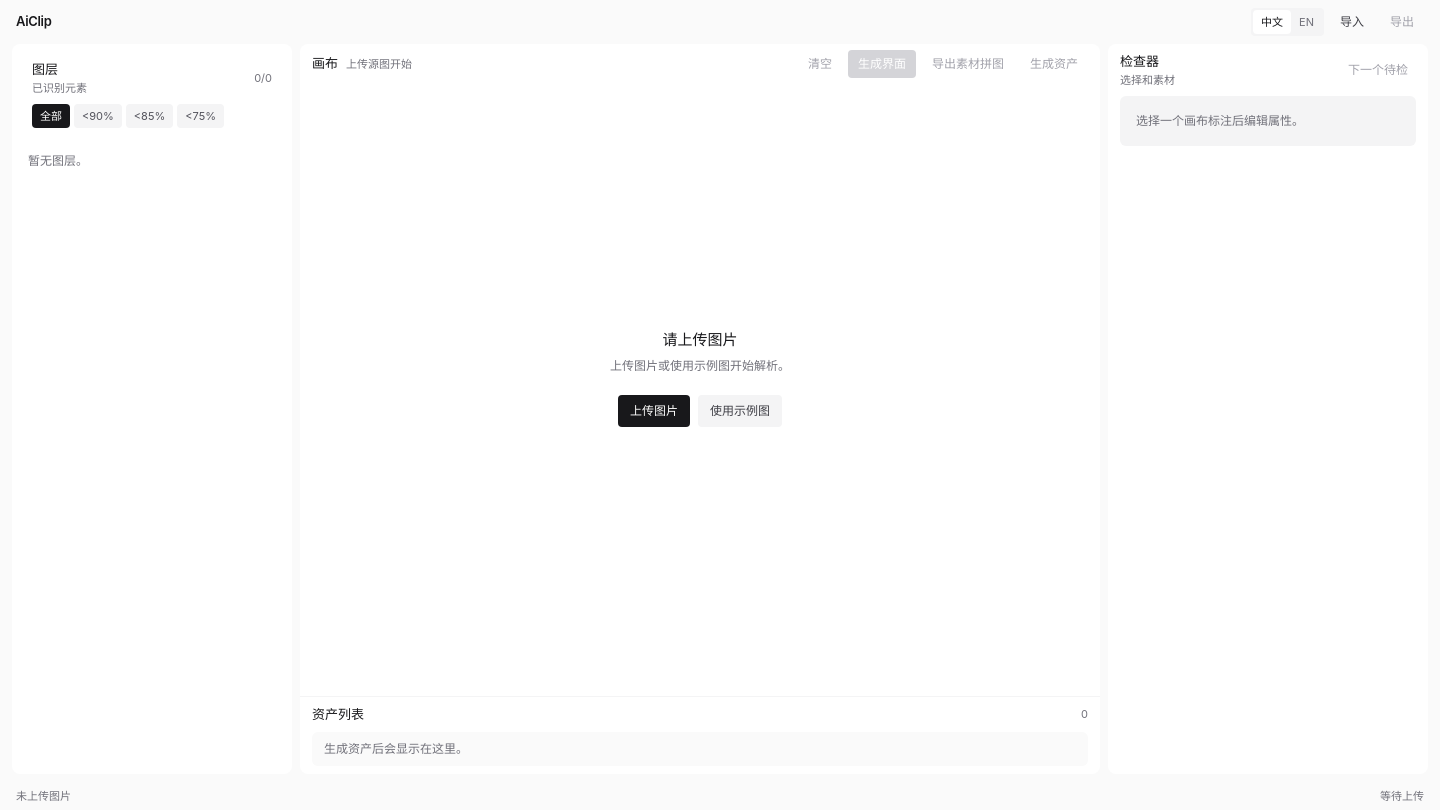
Test case: Workspace › adds a manual annotation even when dragging over an existing box
Click the button "使用示例图" at (740, 411), box [698,395,782,427]
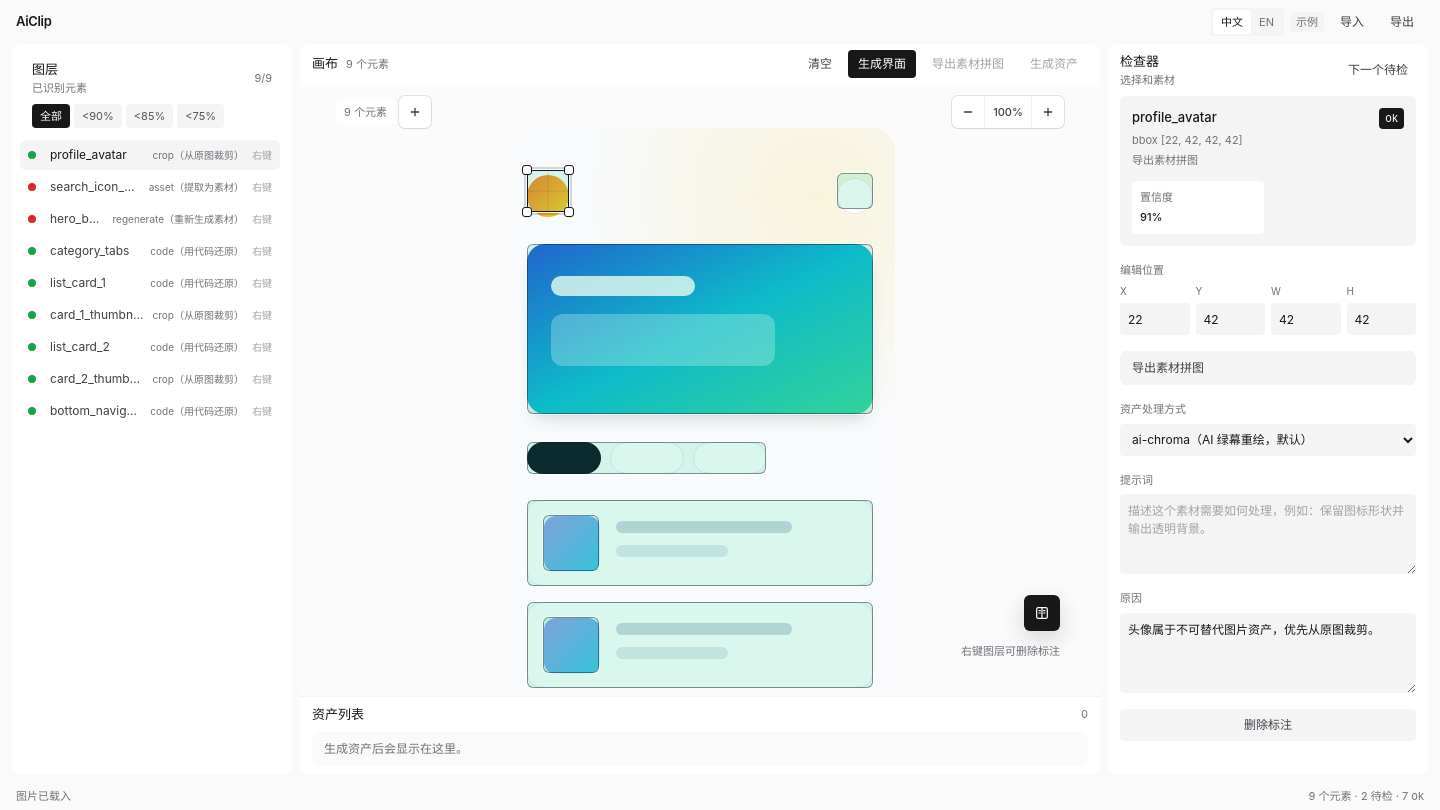
Click the button named "新增标注" at (415, 112), box [399,96,431,128]
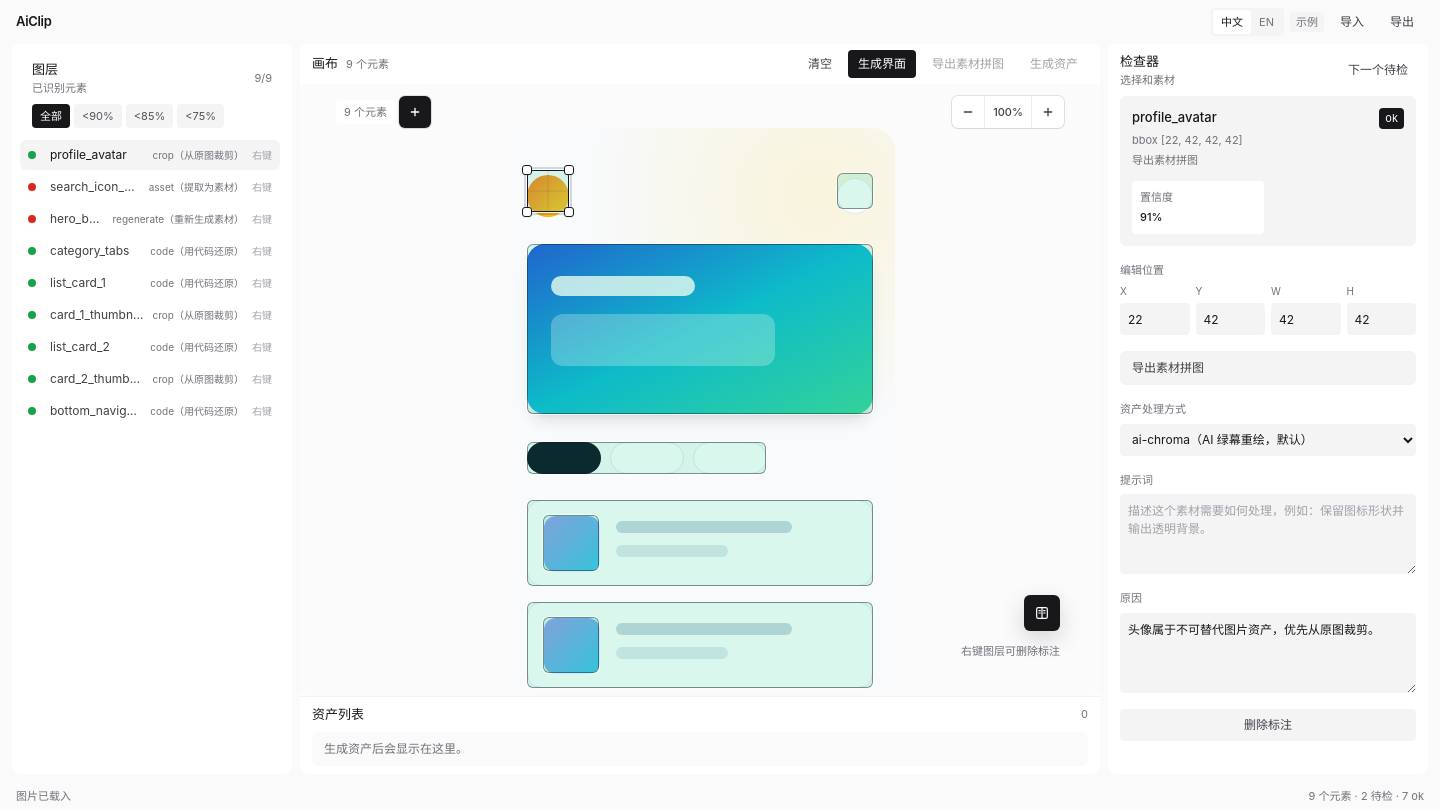
Expected: the element named "选择元素 profile_avatar" next to "右键图层可删除标注" is shown, [505,128,895,696]
Press the mouse on the button named "选择元素 profile_avatar" at (548, 191), box [527,170,569,212]
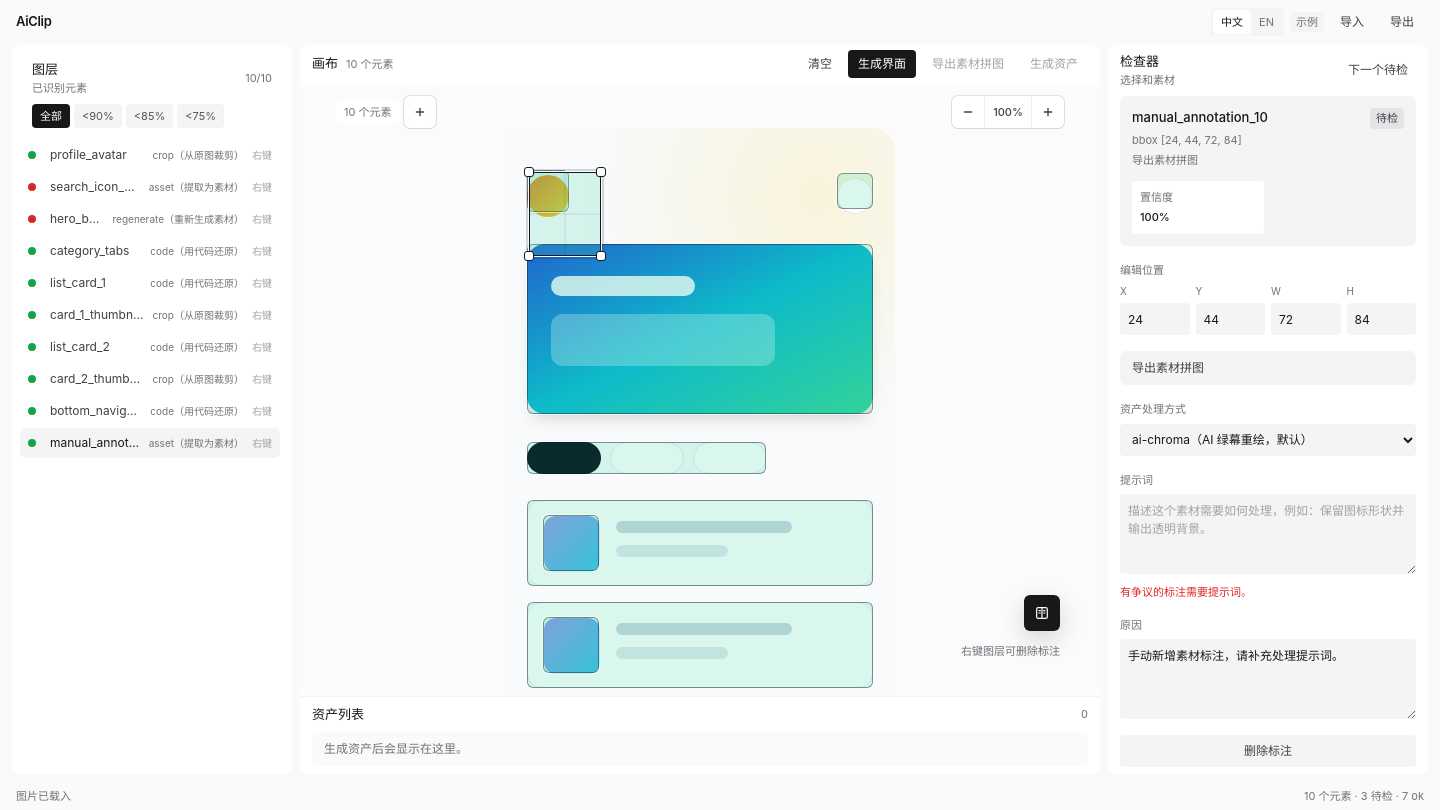
Expected: the button named "选择元素 manual_annotation_10" is shown, [529,172,601,256]
